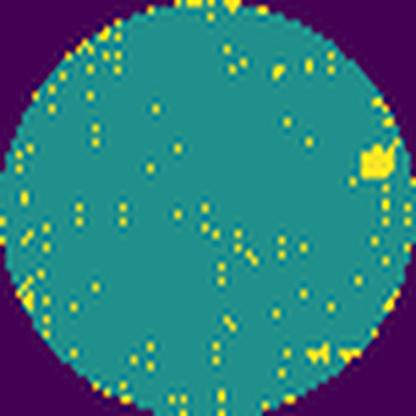Loc: (361, 138, 398, 180)
